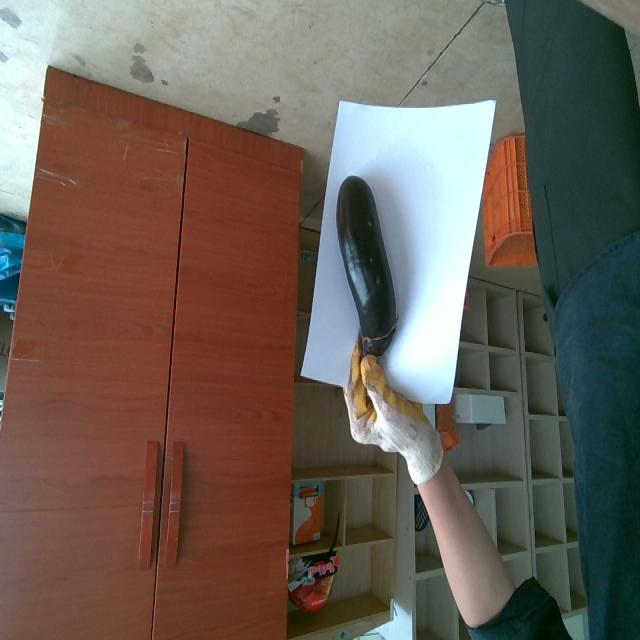Egg plant: (336, 177, 397, 356)
